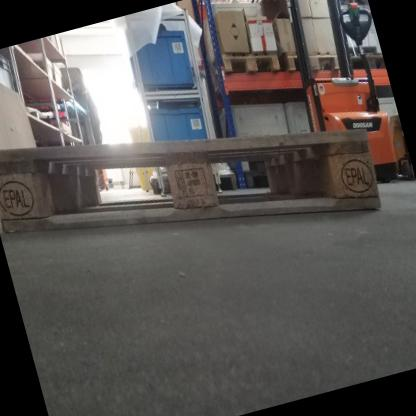BoxFace: (0, 126, 384, 236)
